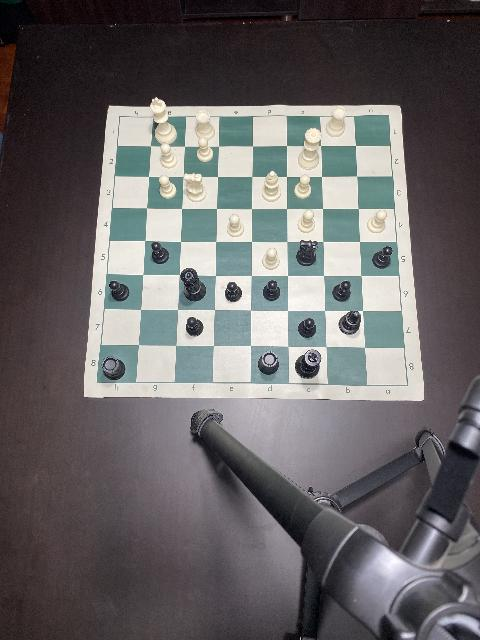black-bishop: (338, 310, 361, 334)
black-king: (295, 349, 322, 379)
black-knight: (297, 240, 320, 266)
black-pawn: (110, 280, 130, 302), (372, 247, 392, 269), (297, 318, 317, 338), (152, 242, 170, 264), (333, 280, 351, 302), (225, 282, 243, 302), (263, 280, 281, 300), (185, 317, 203, 337)
black-queen: (181, 268, 207, 302)
black-rook: (258, 350, 280, 376), (104, 357, 126, 379)
board: (84, 99, 424, 399)
white-bishop: (263, 172, 281, 200)
white-king: (150, 98, 178, 144)
white-knight: (184, 174, 206, 202)
white-pawn: (366, 209, 386, 233), (294, 175, 312, 199), (198, 136, 214, 162), (161, 144, 178, 168), (298, 210, 316, 232), (226, 214, 244, 236), (262, 248, 280, 270), (160, 176, 176, 198)
white-queen: (298, 128, 320, 170)
white-rook: (196, 110, 216, 142), (325, 106, 345, 138)
